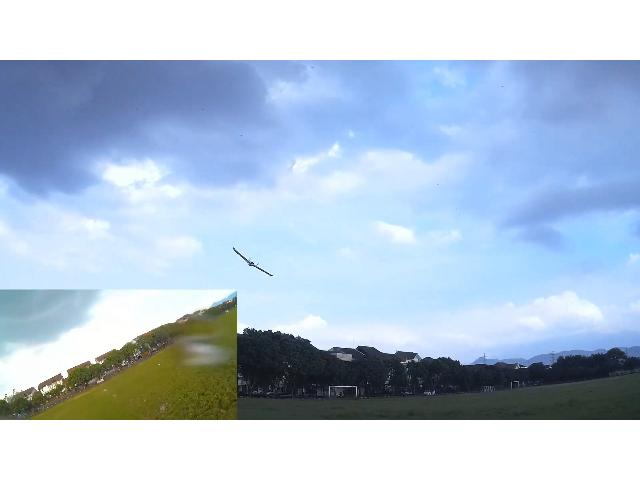Anti-Drone: (233, 248, 275, 275)
